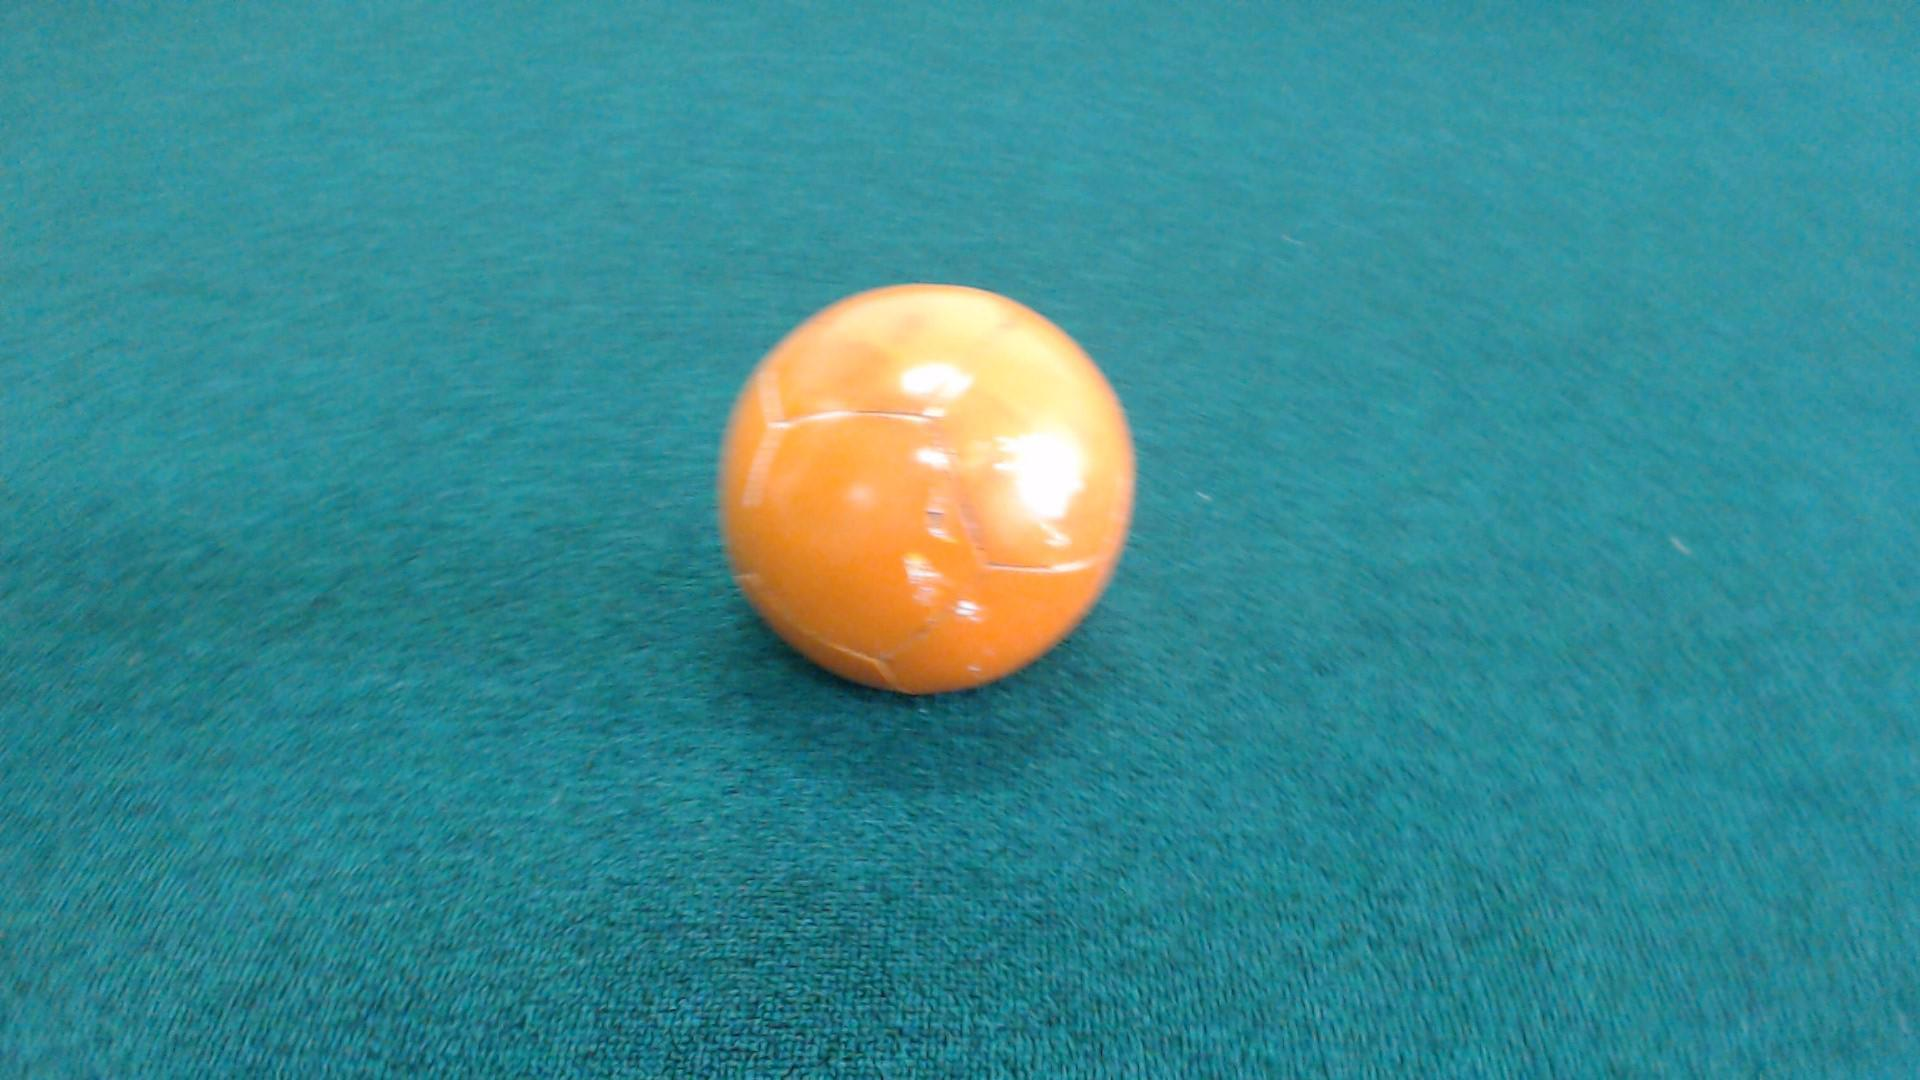bola: (702, 258, 1147, 728)
